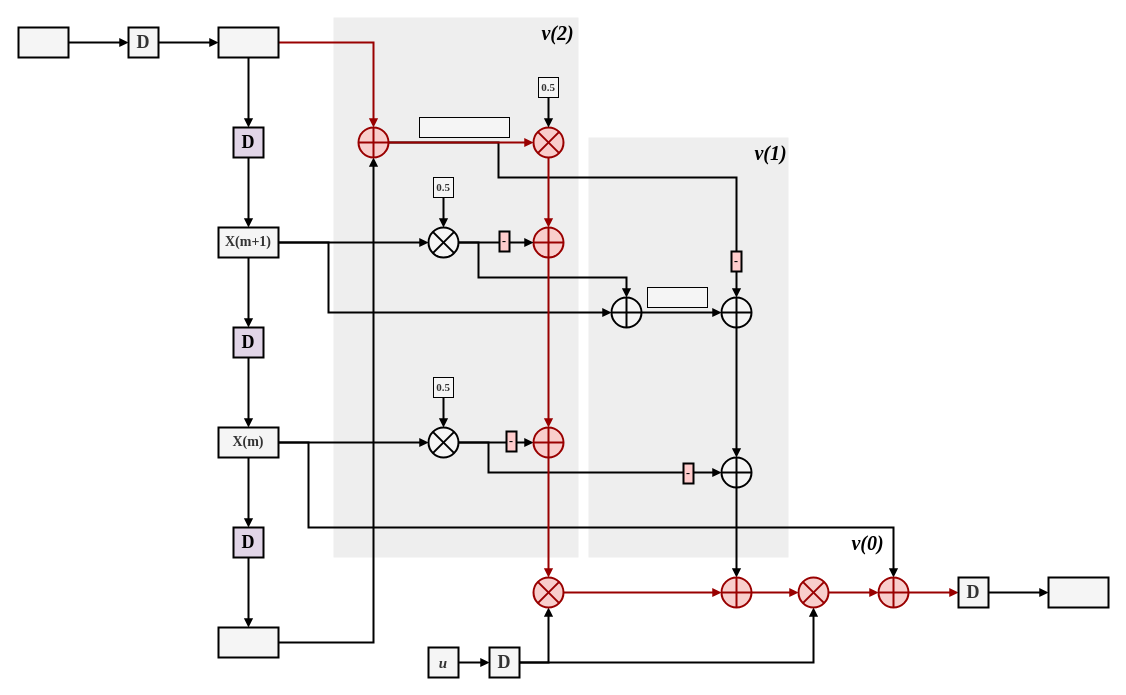
The diagram is 1126 pixels wide and 695 high, and some of its shapes have lost their labels. The centre of each missing label's shape, as x and y in pixels:
1.5 X(m+1): (x=677, y=297)
Input: (x=43, y=42)
Output: (x=1078, y=592)
X(m+2): (x=248, y=42)
X(m+2) + X(m-1): (x=464, y=127)
X(m-1): (x=248, y=642)
